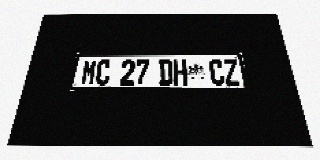2: (120, 60, 135, 85)
7: (135, 60, 149, 85)
C: (209, 59, 225, 85), (95, 60, 111, 85)
D: (159, 59, 173, 85)
H: (173, 59, 188, 85)
M: (80, 60, 98, 85)
Z: (223, 59, 240, 85)
